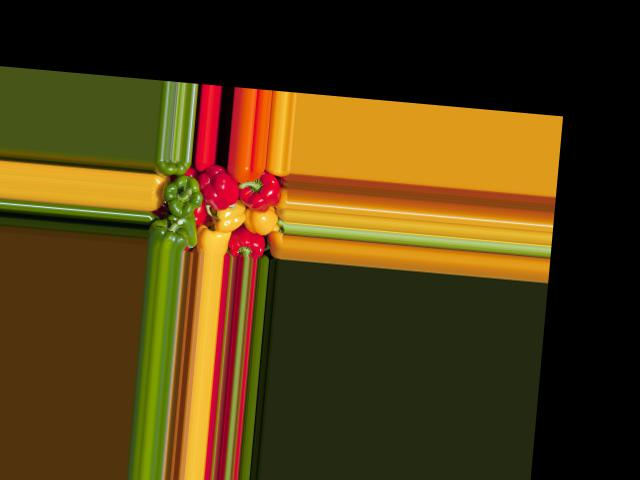bell_pepper: (153, 157, 191, 182)
